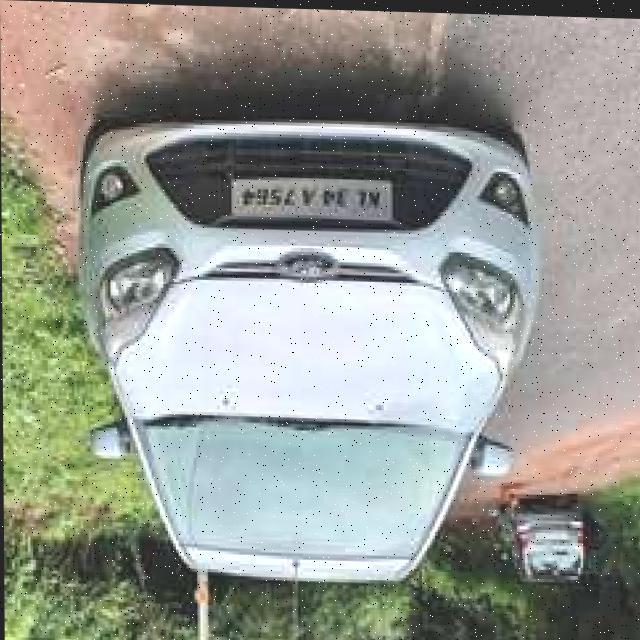plate: (228, 174, 394, 225)
